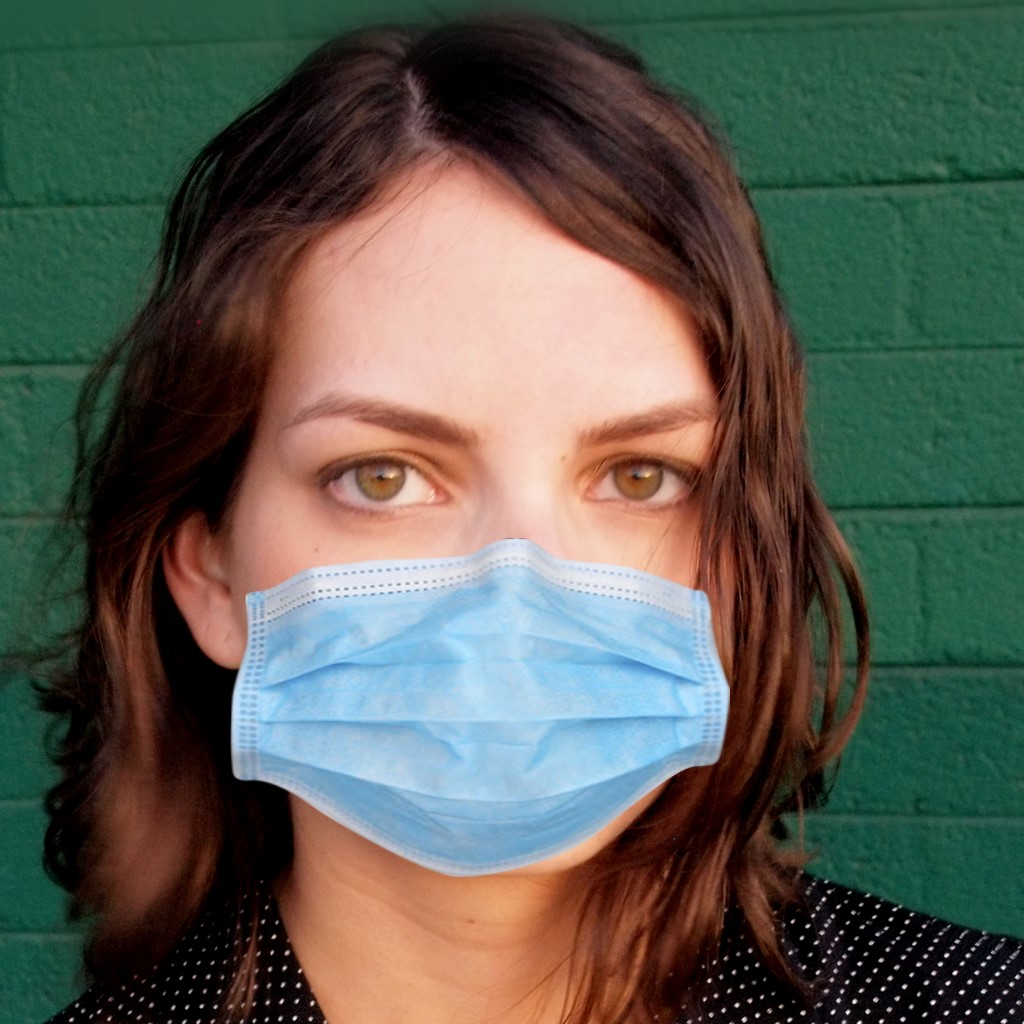con_mascara: (198, 140, 751, 882)
